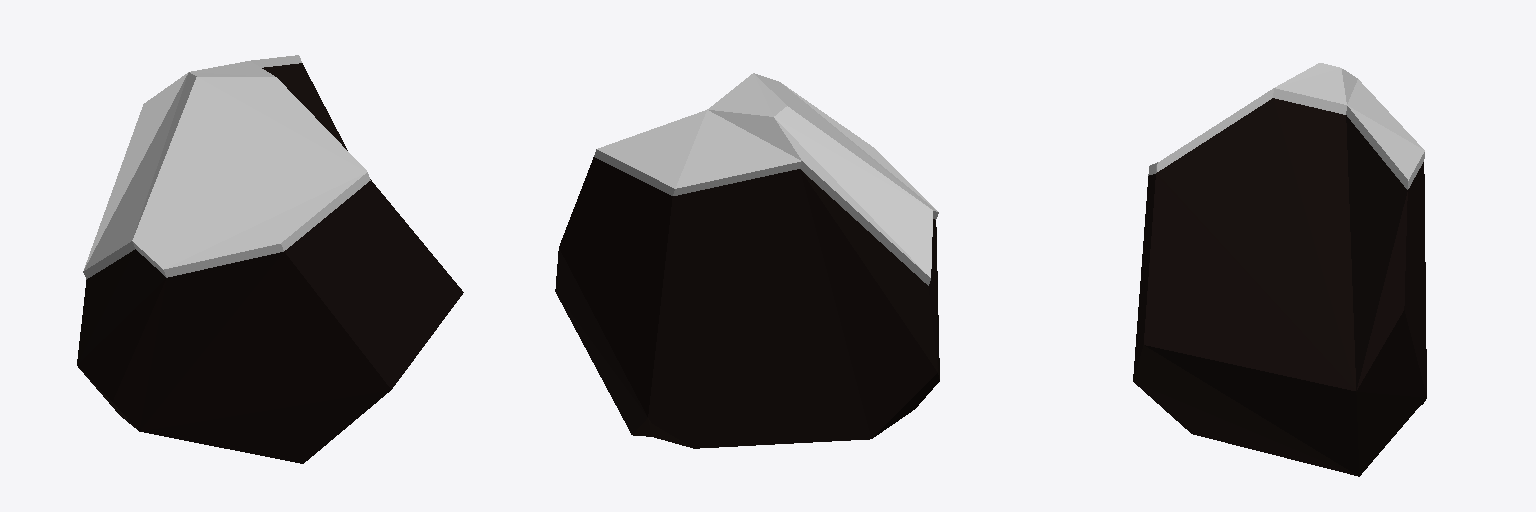
The model's file is Rock_8.obj.
3 views of the same model, side by side, from view 1: azimuth 30°, elevation 25°; view 2: azimuth 150°, elevation 25°; view 3: azimuth 270°, elevation 25° (orthographic).
Parts seen in each view (by area): view 1: Cube.001; view 2: Cube.001; view 3: Cube.001.
Part boxes in pixels (x1,y1,x2,y2): Cube.001: (77, 55, 463, 463); Cube.001: (555, 73, 939, 448); Cube.001: (1133, 63, 1426, 476).
Bounding box in the file's own units: 2.7 × 2.61 × 1.97.